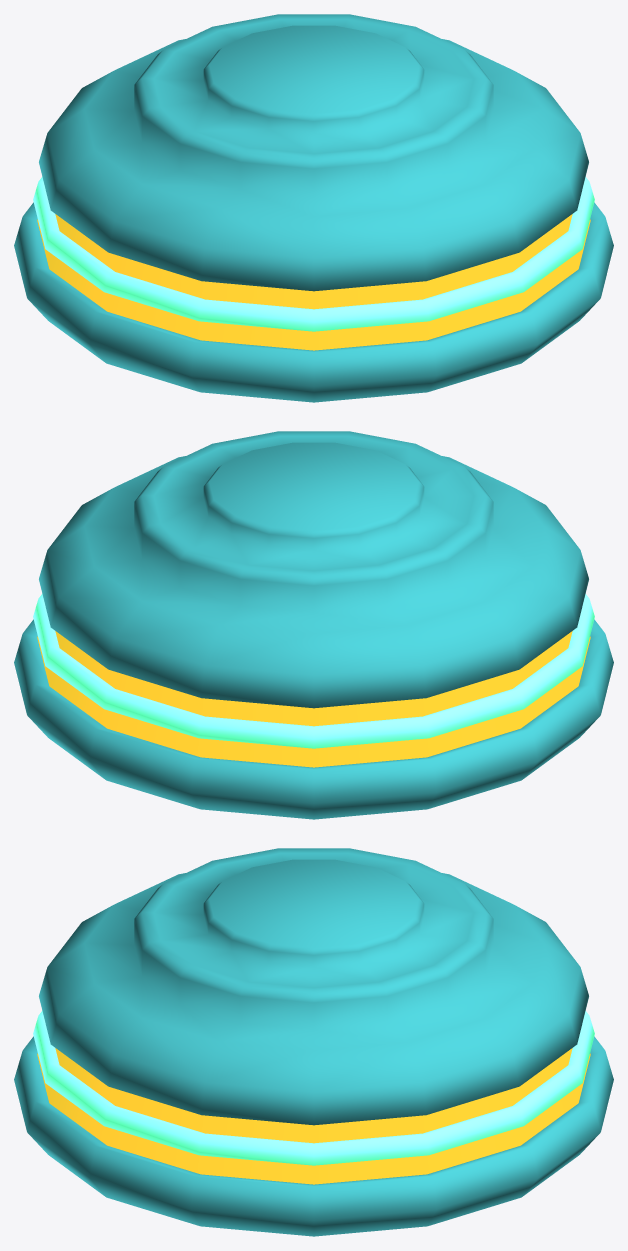
File: mine clean.FBX
3 renders of one model, top to bottom at view 1: azimuth 30°, elevation 25°; view 2: azimuth 150°, elevation 25°; view 3: azimuth 270°, elevation 25°, orthographic.
Parts seen in each view (by area): view 1: Cone001; view 2: Cone001; view 3: Cone001.
Part boxes in pixels (x1,y1,x2,y2): Cone001: (14,14,613,402); Cone001: (14,431,613,819); Cone001: (14,848,613,1236).
Bounding box in the file's own units: 206 × 81.89 × 207.
